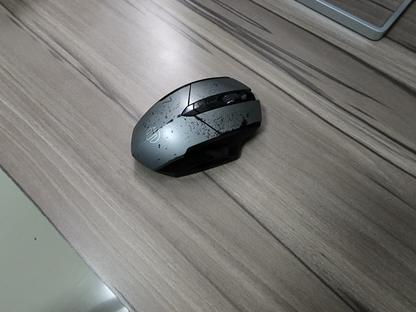mouse: (129, 75, 262, 178)
